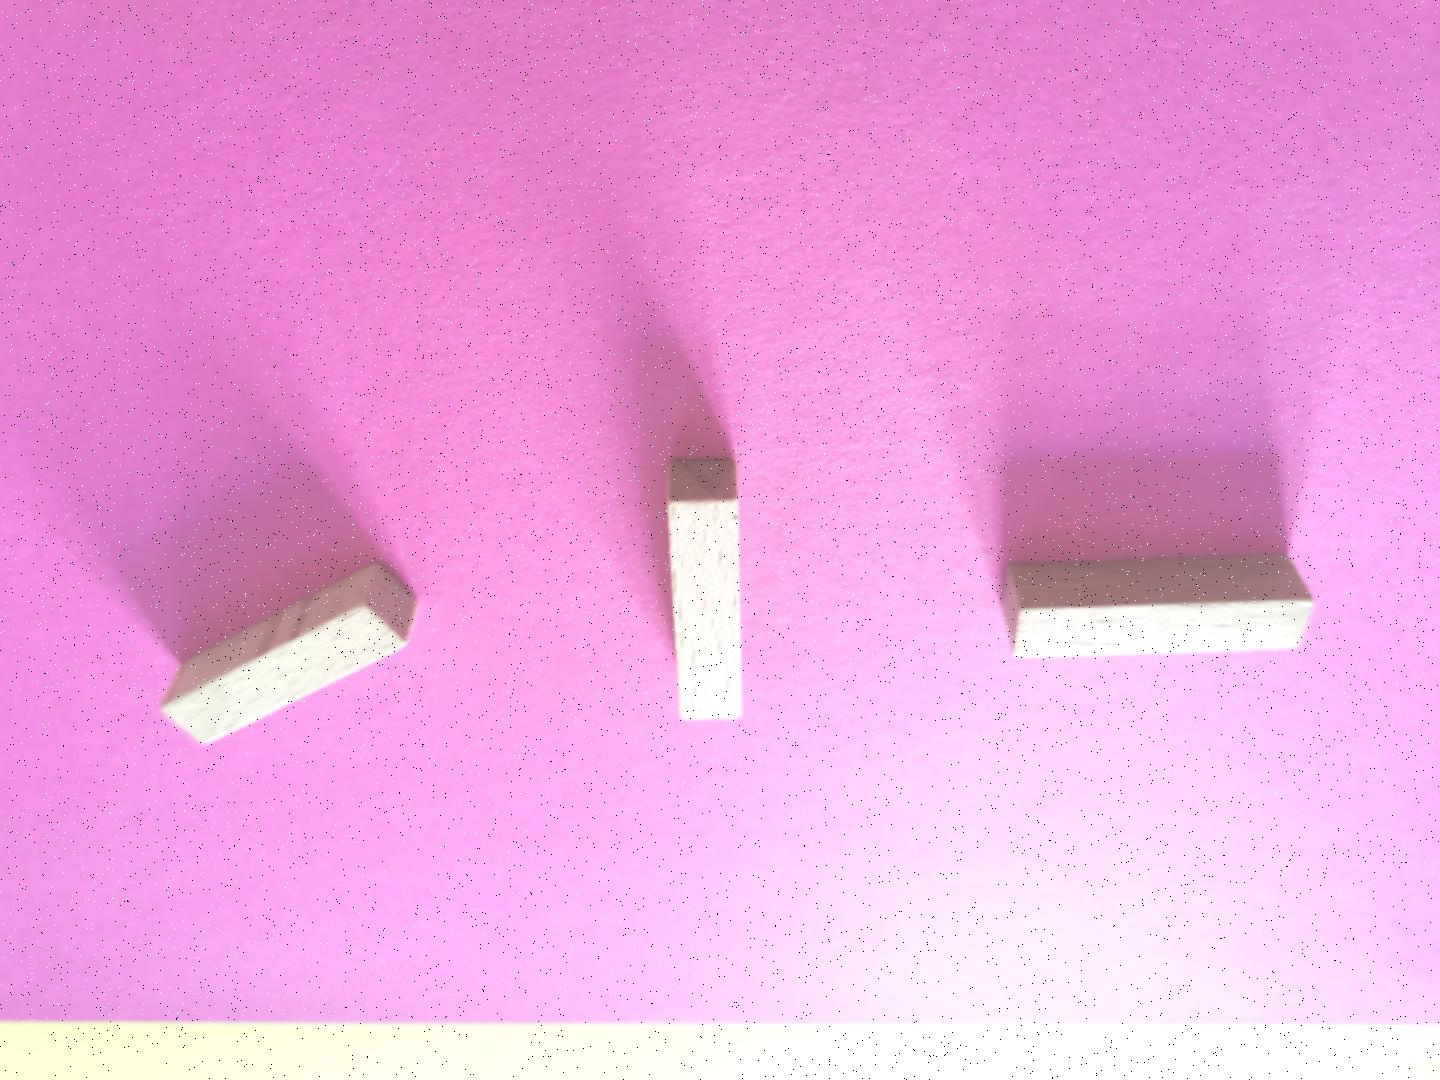jenga: (163, 565, 416, 742), (1001, 557, 1313, 658), (669, 458, 743, 720)
